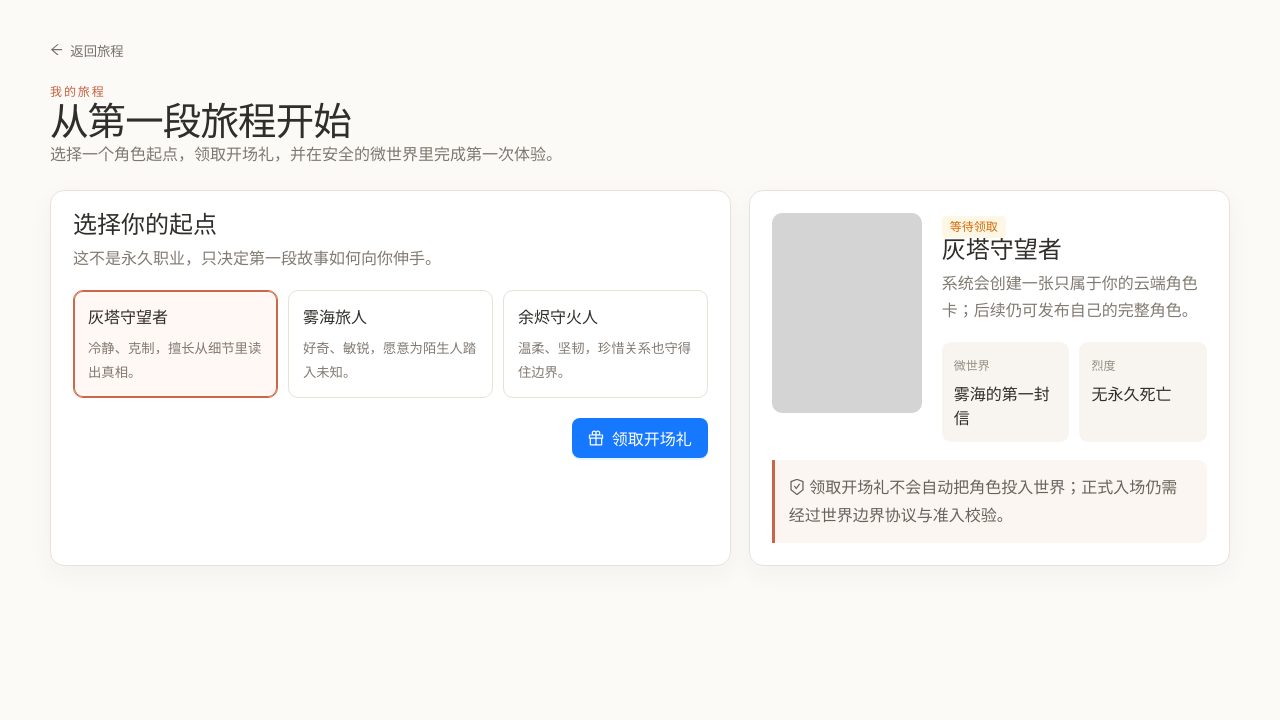
Test: 我的旅程设计预览 › 开场礼领取后才出现微世界启动动作
Step 1. Click the button "领取开场礼" → {"x": 640, "y": 438}, box 572,418 -> 708,458
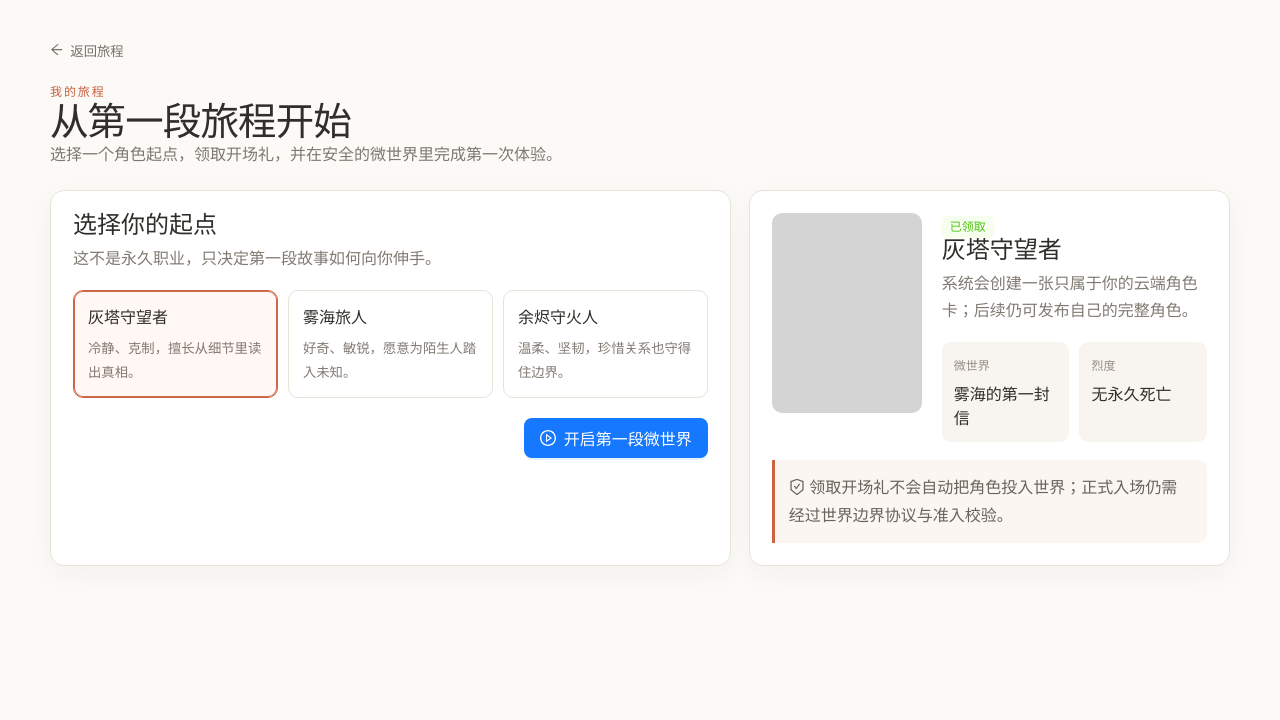
Result: the button "开启第一段微世界" is shown at 524,418 -> 708,458
Result: the text "已领取" is shown at 942,216 -> 994,238
